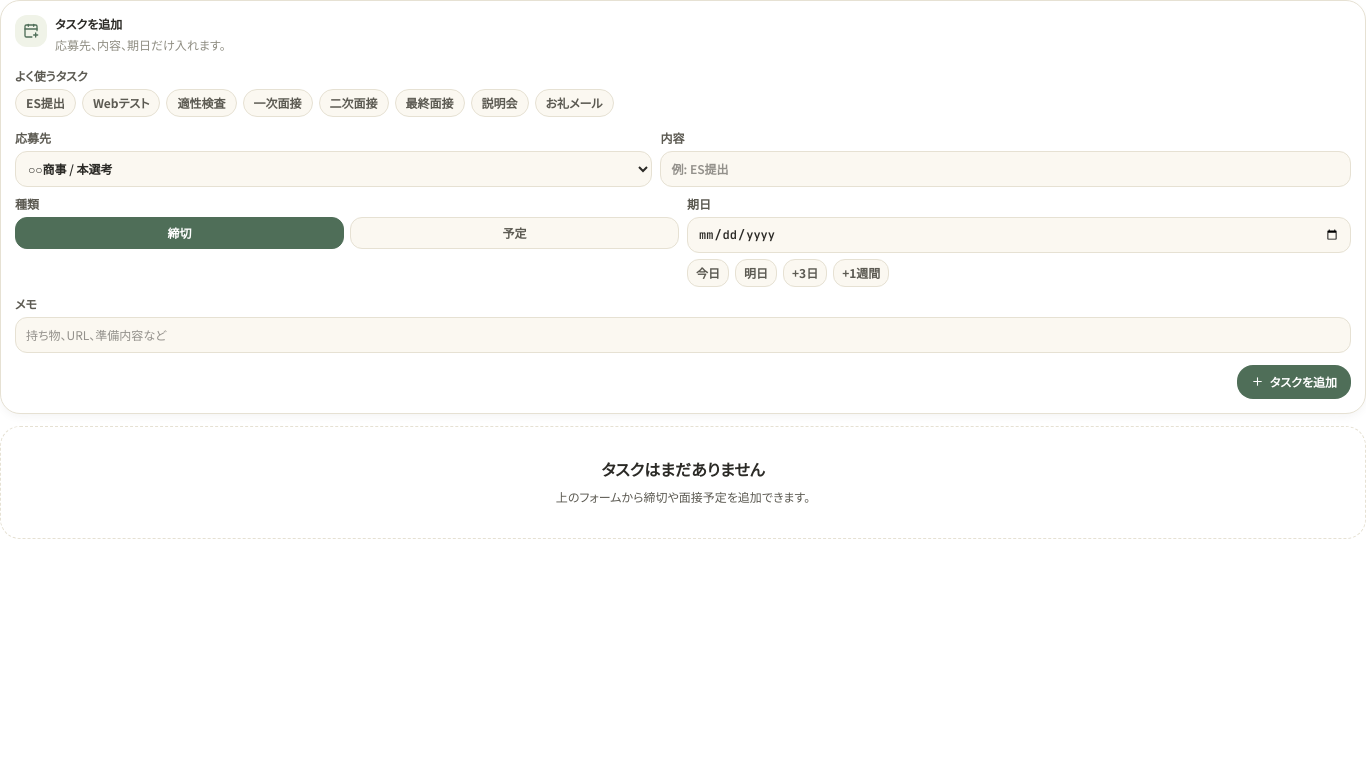
it: TaskListView › 定型チップをタップするとタスク名と種類欄に反映される
Click the button "一次面接".
click(278, 102)  # box top-left (242, 88), bottom-right (312, 116)
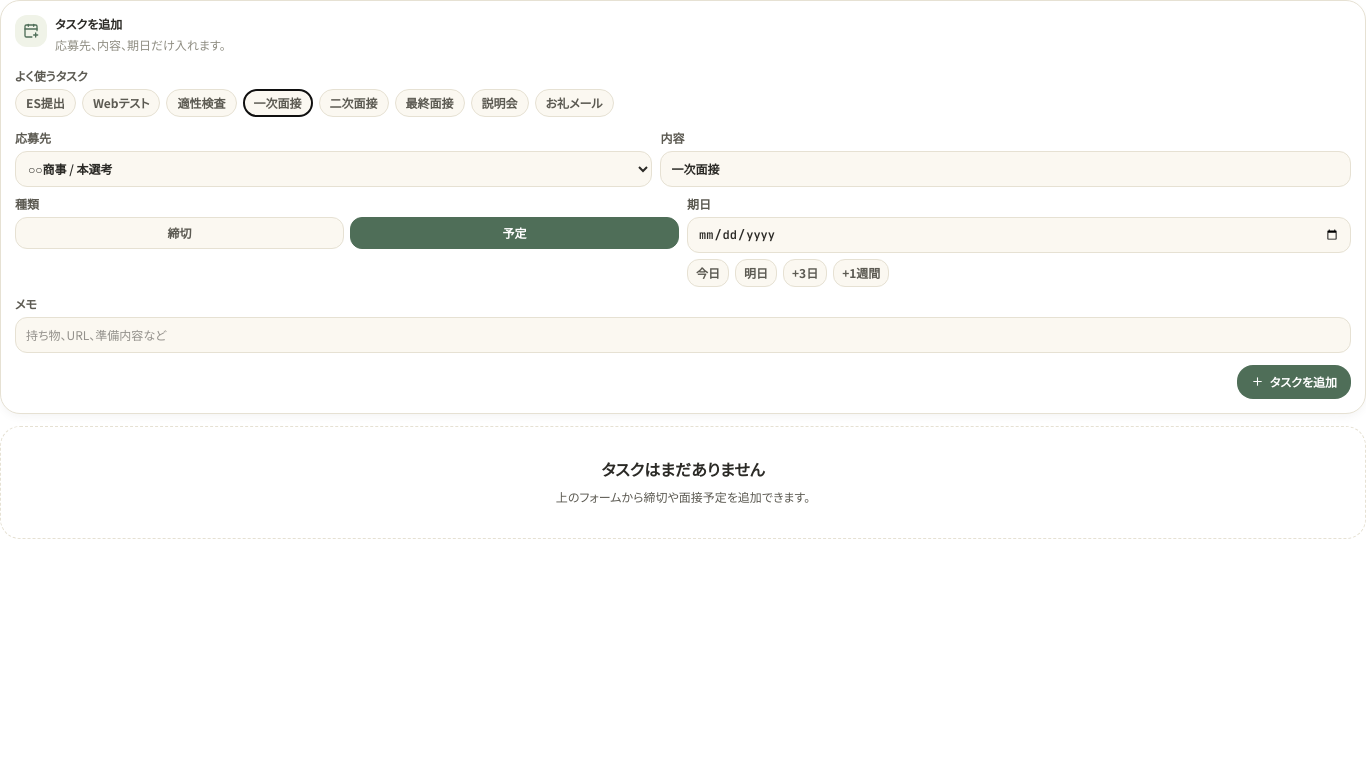
expect the field named "タスク名" holds "一次面接": met, box top-left (660, 150), bottom-right (1351, 186)
expect the radio button labelled "予定" is checked: met, box top-left (350, 216), bottom-right (679, 248)
